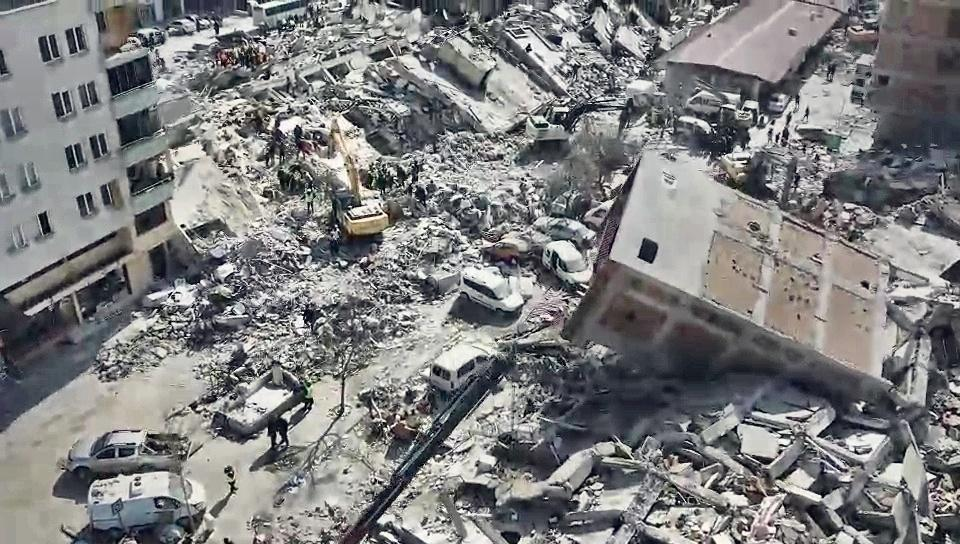kapali: (16, 0, 744, 501)
